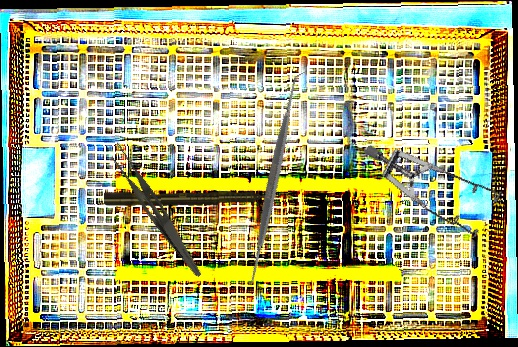Dressing Forceps: (100, 140, 216, 279)
Handpiece: (103, 188, 277, 208)
Spatula Surgical: (165, 70, 383, 289)
Speculum: (362, 100, 516, 265)
